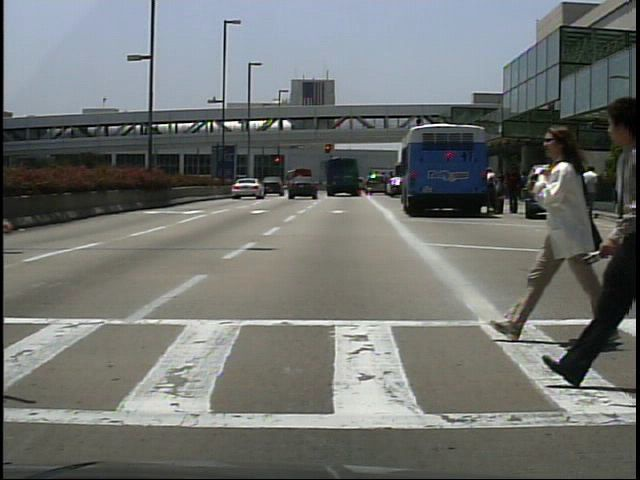person: (514, 116, 603, 350), (582, 168, 602, 218), (504, 165, 522, 215), (486, 162, 502, 215)
